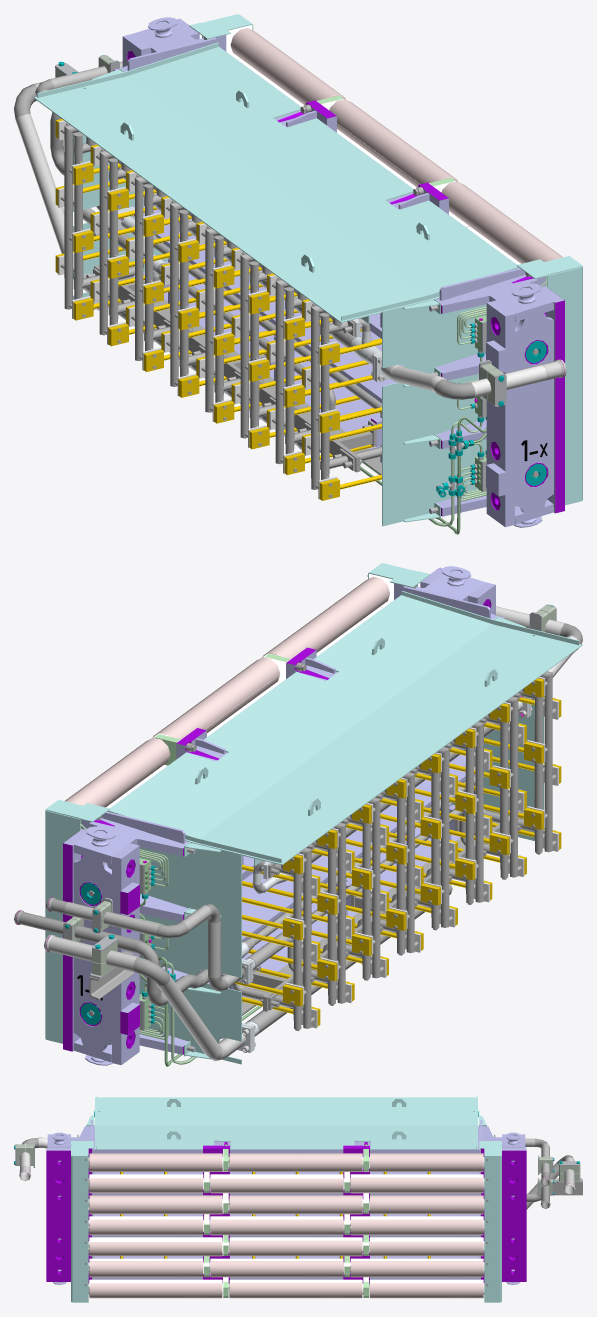
File: SEGMENT_1_LOOSE_SIDE_FRAME.glb
3 views of the same model, one above another, from view 1: azimuth 30°, elevation 25°; view 2: azimuth 150°, elevation 25°; view 3: azimuth 270°, elevation 25° (orthographic). The views are drawn at different scales.
Parts seen in each view (by area): view 1: Model, ROLLER_1_2, ROLLER_1_1, ROLLSET_2; view 2: Model, ROLLER_1_2, ROLLER_1_1, ROLLSET_2; view 3: Model, ROLLSET_2, ROLLSET_7, ROLLSET_5, ROLLSET_4, ROLLSET_6, ROLLER_1_2, ROLLER_5_2, ROLLER_1_1, ROLLER_6_3, ROLLER_2_3.
Part boxes in pixels (<box>): Model: <box>14,14,582,534</box>; ROLLER_1_2: <box>334,99,455,184</box>; ROLLER_1_1: <box>448,181,561,262</box>; ROLLSET_2: <box>237,59,520,264</box>; Model: <box>14,563,582,1066</box>; ROLLER_1_2: <box>153,657,279,736</box>; ROLLER_1_1: <box>270,576,389,655</box>; ROLLSET_2: <box>106,607,383,808</box>; Model: <box>14,1095,582,1302</box>; ROLLSET_2: <box>89,1172,484,1191</box>; ROLLSET_7: <box>88,1277,484,1297</box>; ROLLSET_5: <box>88,1235,484,1255</box>; ROLLSET_4: <box>88,1214,484,1233</box>; ROLLSET_6: <box>88,1258,484,1275</box>; ROLLER_1_2: <box>229,1153,362,1171</box>; ROLLER_5_2: <box>229,1238,362,1255</box>; ROLLER_1_1: <box>89,1153,221,1171</box>; ROLLER_6_3: <box>351,1264,483,1277</box>; ROLLER_2_3: <box>351,1177,483,1179</box>.
Bounding box in the file's own units: 1.16 × 1.17 × 4.04.
